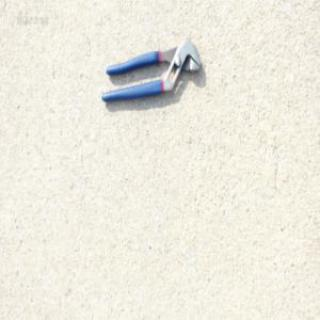Pliertrack_idkeyframe: (98, 38, 202, 104)
